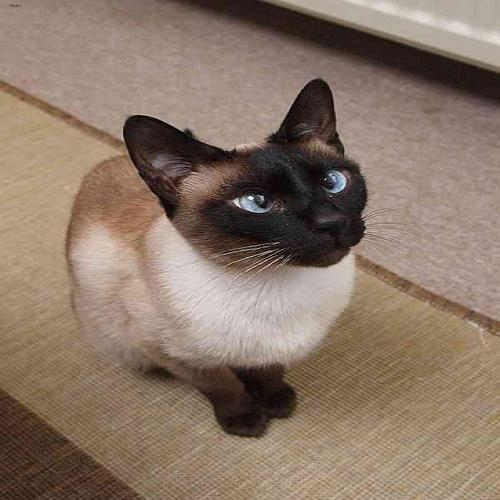siamese: (117, 72, 414, 287)
